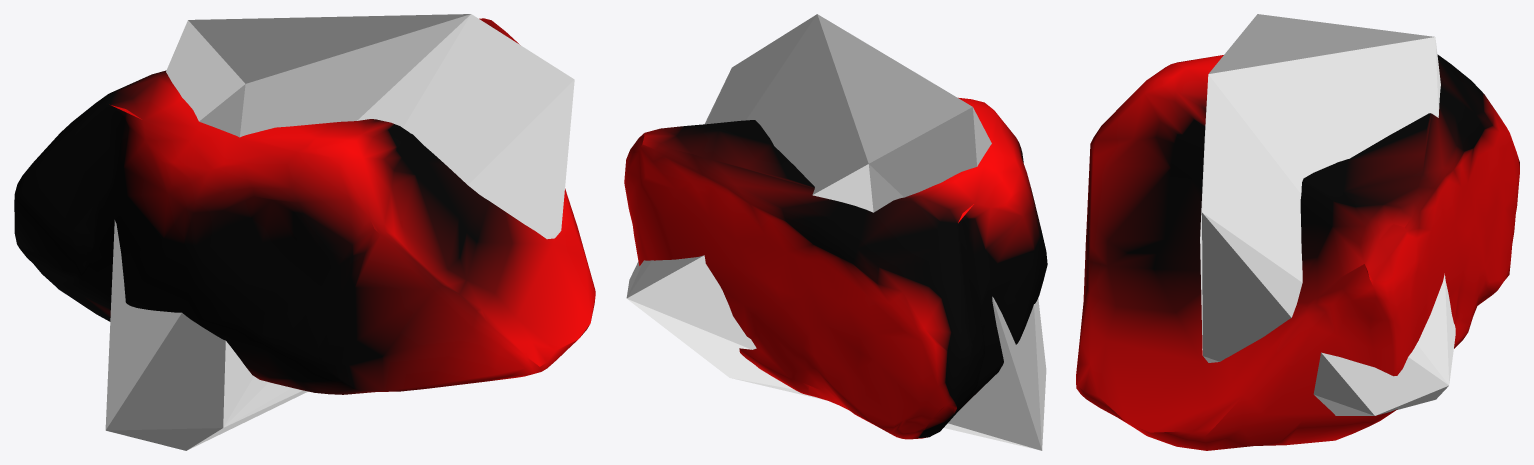
The picture shows the model from 3 angles, left to right: view 1: azimuth 30°, elevation 25°; view 2: azimuth 150°, elevation 25°; view 3: azimuth 270°, elevation 25°; orthographic projection. The views are drawn at different scales.
Parts seen in each view (by area): view 1: SM_Rock_07_LOD0, SM_Rock_07_ConvexHulls; view 2: SM_Rock_07_LOD0, SM_Rock_07_ConvexHulls; view 3: SM_Rock_07_LOD0, SM_Rock_07_ConvexHulls.
Part boxes in pixels (left/top/right/bottom): SM_Rock_07_LOD0: left=14, top=18, right=595, bottom=394; SM_Rock_07_ConvexHulls: left=105, top=14, right=574, bottom=450; SM_Rock_07_LOD0: left=624, top=97, right=1047, bottom=439; SM_Rock_07_ConvexHulls: left=626, top=14, right=1046, bottom=450; SM_Rock_07_LOD0: left=1076, top=54, right=1519, bottom=450; SM_Rock_07_ConvexHulls: left=1200, top=14, right=1455, bottom=415.
Size of the model in its own units: 135 by 114 by 112.
